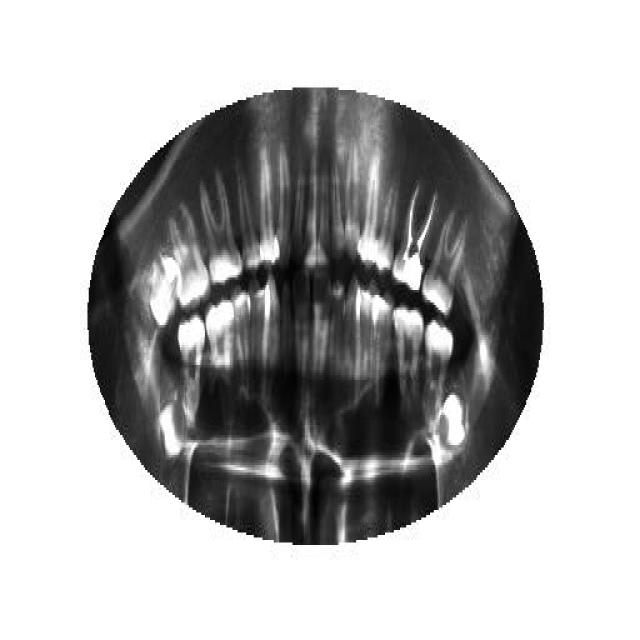Impacted Tooth: (145, 248, 183, 330)
Implant: (392, 182, 438, 290)
